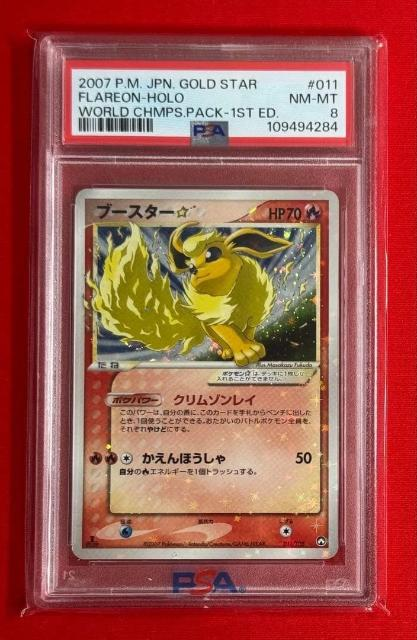Card: (69, 182, 343, 564)
Name: (89, 198, 201, 223)
